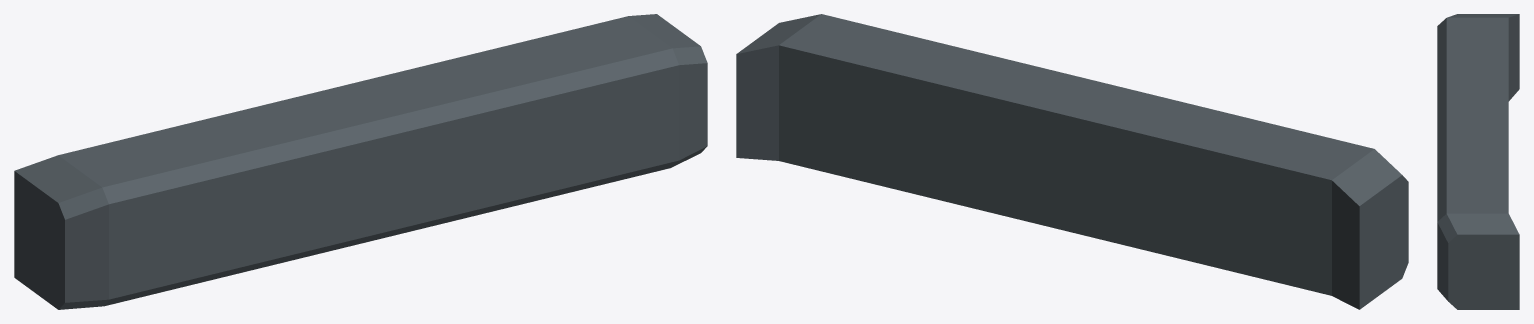
File: SM_Bld_Floor_Small_Walkway_Endcap_01.fbx
3 views of the same model, side by side, from view 1: azimuth 30°, elevation 25°; view 2: azimuth 150°, elevation 25°; view 3: azimuth 270°, elevation 25° (orthographic). The views are drawn at different scales.
Parts seen in each view (by area): view 1: SM_Bld_Floor_Small_Walkway_Endcap_01; view 2: SM_Bld_Floor_Small_Walkway_Endcap_01; view 3: SM_Bld_Floor_Small_Walkway_Endcap_01.
Boxes of the visible parts, x1,y1,x2,y2 form: SM_Bld_Floor_Small_Walkway_Endcap_01: (14,14,707,309); SM_Bld_Floor_Small_Walkway_Endcap_01: (736,14,1408,309); SM_Bld_Floor_Small_Walkway_Endcap_01: (1437,14,1519,309).
Size of the model in its own units: 282 by 49.97 by 44.39.
1 material, 1 textured.
